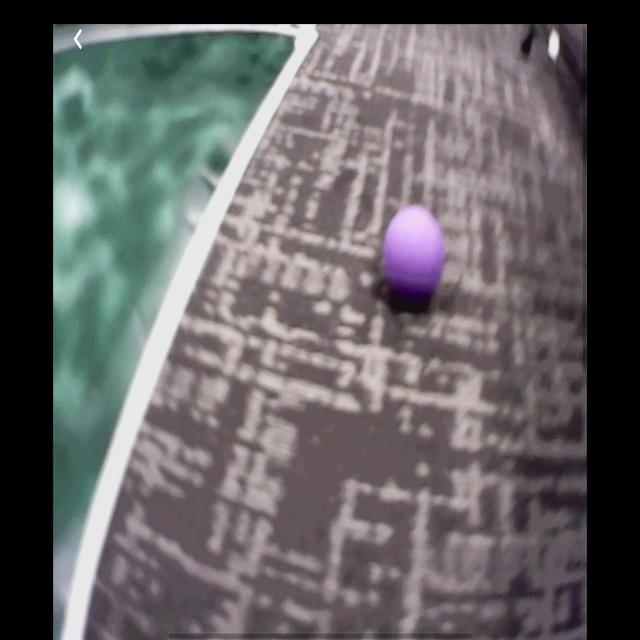ball: (385, 208, 443, 295)
